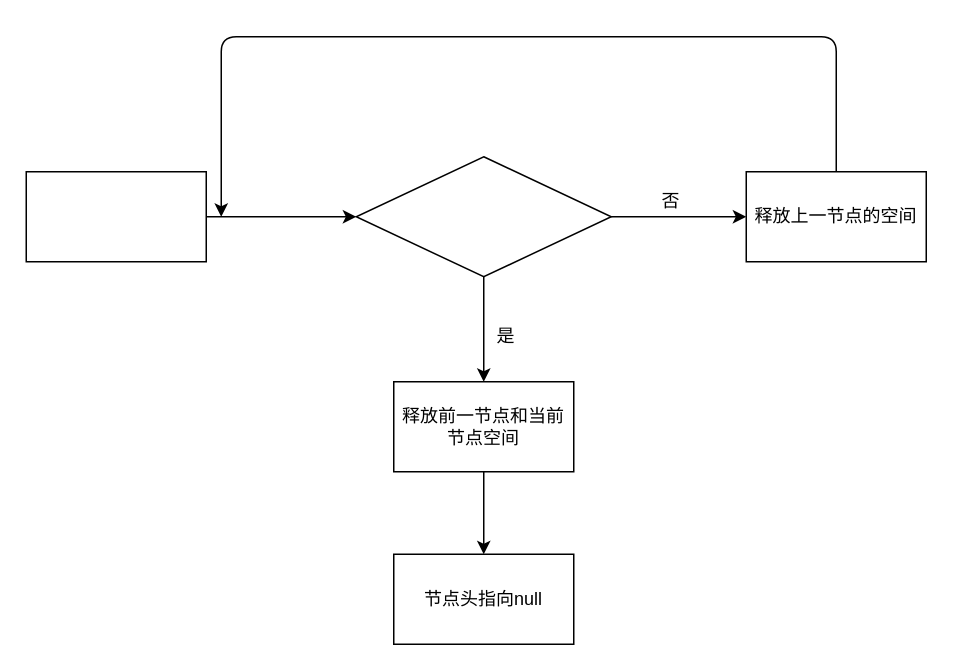
This 953x671 diagram has some shape labels left out. The centre of each missing label's shape, as x and y in pixels:
"开始" belongs at (115,216).
"当前节点是否为最后一个" belongs at (483,216).
